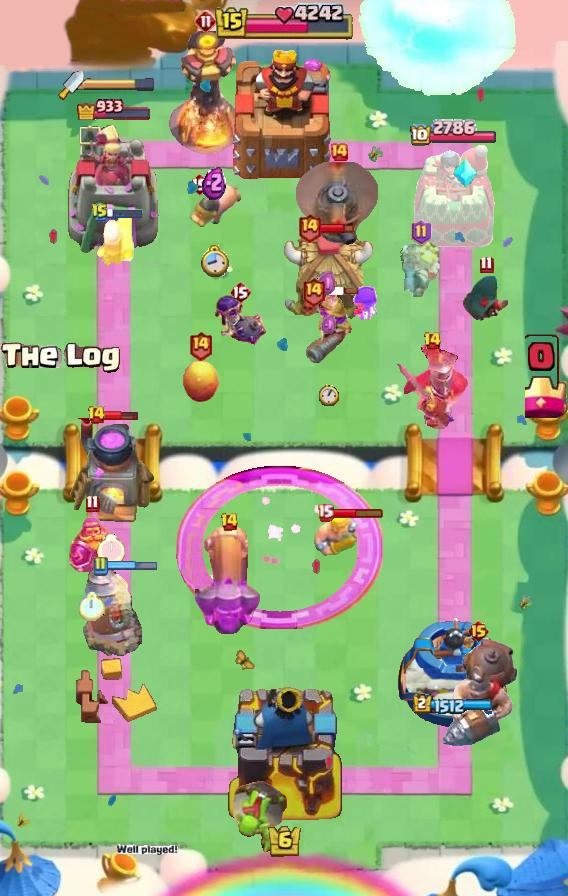archer: (313, 512, 363, 556)
bar: (67, 122, 161, 256)
bar-level: (230, 776, 290, 852)
bomb-tower: (301, 289, 357, 367)
clock: (213, 3, 355, 43)
dark-prince: (294, 162, 384, 248)
electro-dragon: (167, 28, 245, 154)
electro-spirit: (202, 165, 226, 199), (318, 270, 339, 297), (321, 314, 339, 336)
elixir: (199, 243, 229, 277), (97, 534, 125, 566), (79, 591, 105, 620), (319, 384, 339, 406)
emote: (332, 507, 385, 519), (106, 560, 157, 572), (318, 222, 353, 234), (107, 208, 143, 219), (103, 411, 139, 422), (323, 286, 359, 296)
executioner: (187, 180, 241, 230)
firecracker-evolution: (67, 516, 117, 574)
furnace: (195, 522, 263, 634)
goblin: (347, 284, 381, 324)
goblin-ball: (212, 292, 268, 348)
hog: (181, 356, 219, 404)
hunter: (66, 418, 156, 526)
king-tower: (223, 680, 345, 826), (229, 43, 339, 181)
king-tower-bar: (84, 77, 156, 91)
knight-evolution: (177, 466, 384, 630)
magic-archer: (82, 565, 142, 657)
mega-knight: (355, 0, 521, 100)
mortar-evolution: (400, 239, 442, 297)
pad_2: (452, 157, 478, 189)
prince: (280, 232, 374, 322)
queen-tower: (395, 614, 514, 730), (410, 144, 496, 255)
selected: (410, 120, 499, 149), (75, 96, 152, 120), (414, 693, 495, 714)
tesla: (462, 275, 510, 321)
text: (298, 212, 323, 243), (302, 277, 327, 308), (188, 331, 213, 362), (194, 9, 218, 33), (466, 619, 489, 643), (412, 219, 433, 245), (188, 172, 210, 196), (229, 280, 251, 304), (329, 142, 349, 162), (86, 405, 106, 425), (422, 331, 441, 351), (221, 512, 240, 532), (91, 203, 109, 223), (318, 503, 335, 522), (92, 556, 108, 576), (479, 255, 493, 273), (85, 495, 99, 513)
tombstone: (94, 210, 136, 268)
wall-breaker-evolution: (394, 341, 470, 429)
wizard: (438, 637, 518, 747)
